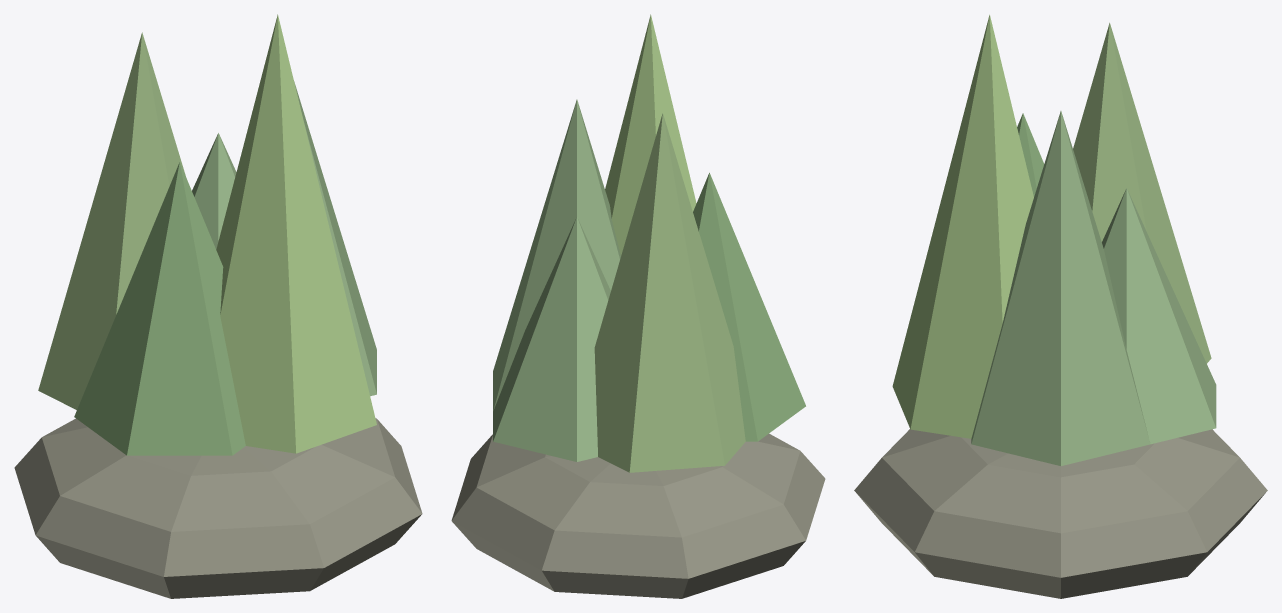
The model's file is 4101_cragmoss.glb.
The picture shows the model from 3 angles, left to right: view 1: azimuth 30°, elevation 25°; view 2: azimuth 150°, elevation 25°; view 3: azimuth 270°, elevation 25°; orthographic projection. The views are drawn at different scales.
Size of the model in its own units: 0.6 by 0.885 by 0.6.
